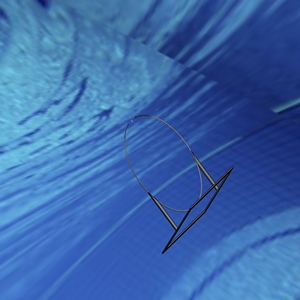circle: (120, 112, 236, 253)
